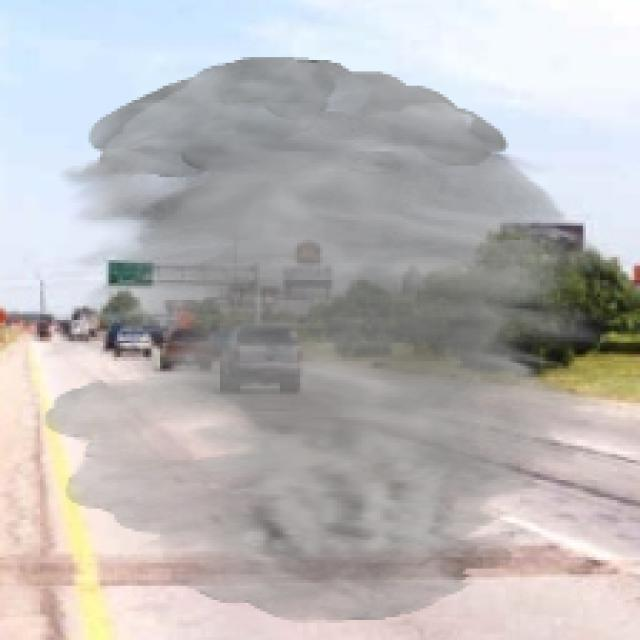Smoke: (43, 57, 612, 623)
